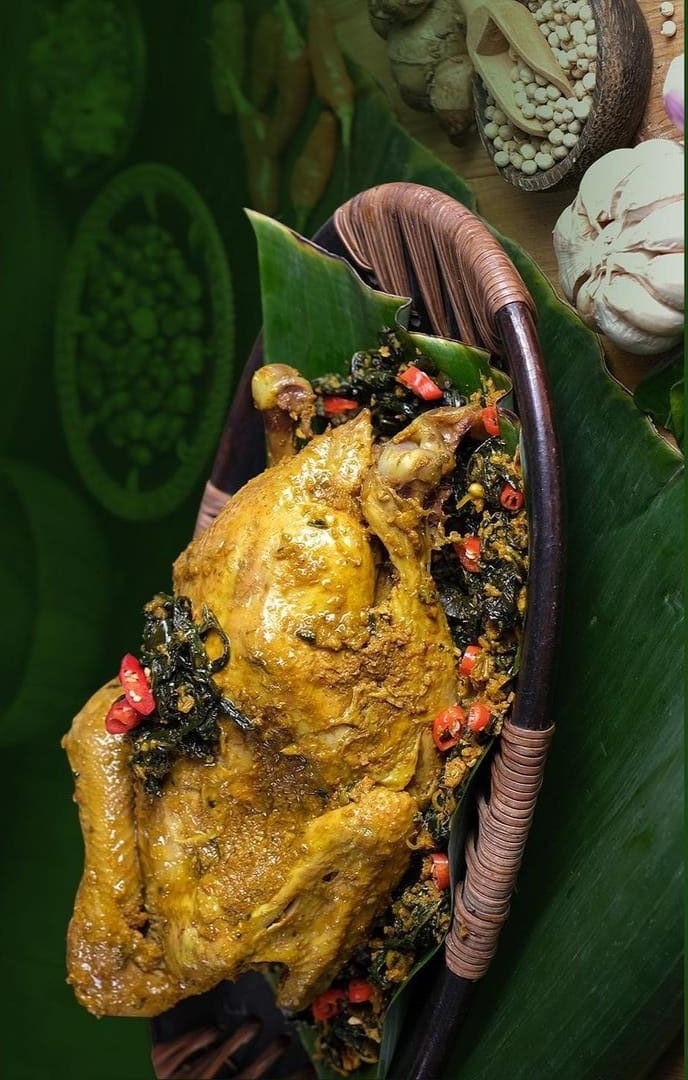ayam_betutu: (69, 414, 457, 1017)
